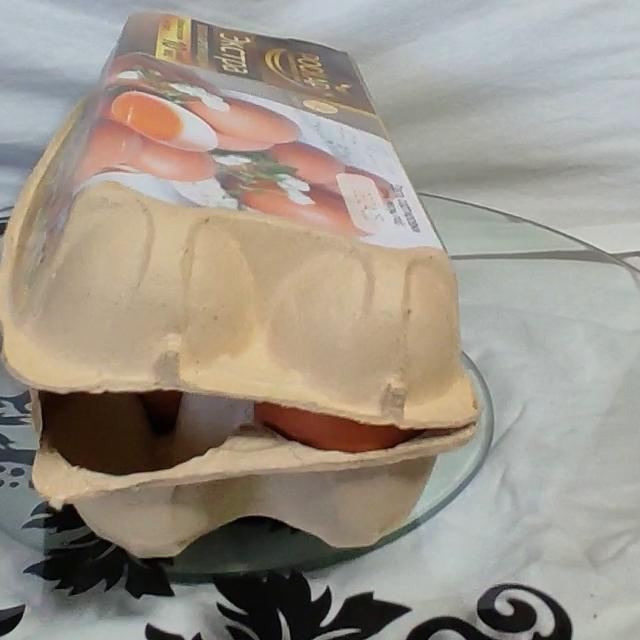egg: (0, 13, 448, 566)
